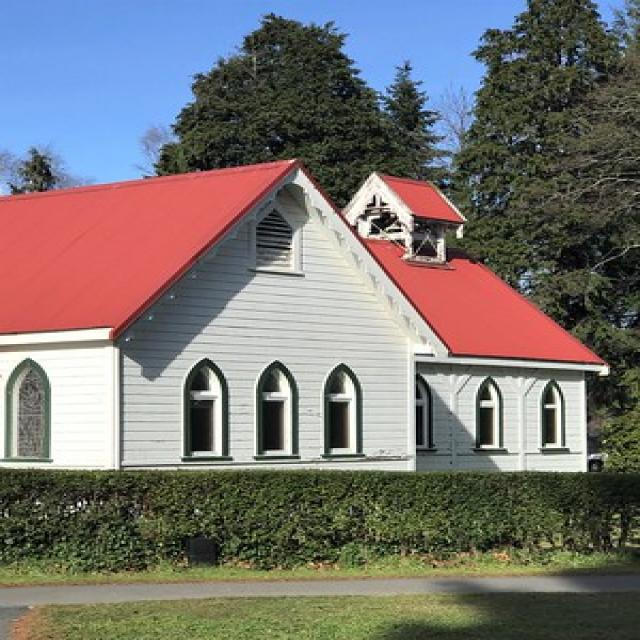Normal_building: (2, 156, 608, 478)
